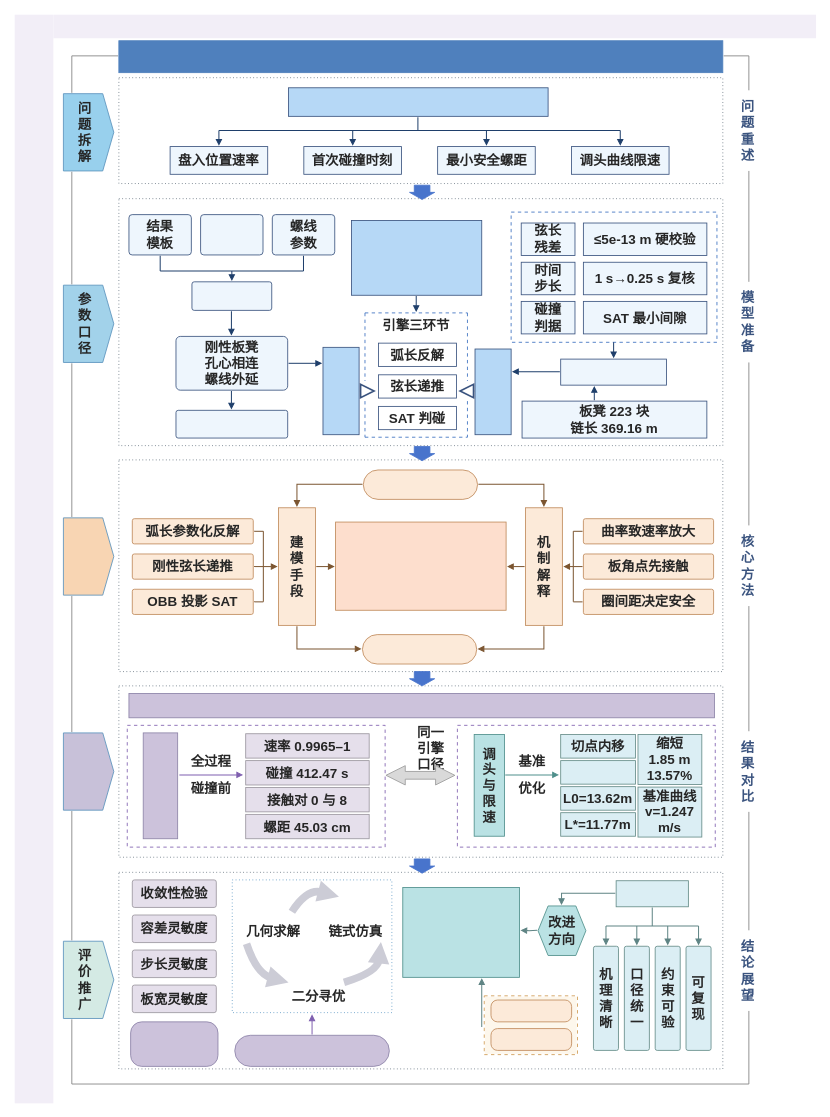
Some shapes in this 830 by 1117 pixel diagram are drawn without their labels. The centre of each missing label's shape, as x and y in pixels:
"R2=1.43m" goes at pixel 597 772.
"五 问 结 果" goes at pixel 88 771.
"内容一：共用 弧长参数化 链式求解引擎 （五问复用）" goes at pixel 416 257.
"内容三：五问结果——位置速率、首次碰撞、最小螺距、调头曲线与限速" goes at pixel 421 705.
"内容二：螺旋-链式 参数化建模+ SAT 碰撞判定+ 螺距/切点优化 二分求解" goes at pixel 420 565.
"内容四：误差与 灵敏度分析、 模型评价与改进、 应用推广" goes at pixel 461 932.
"几 何 准 备" goes at pixel 340 390.
"几何相切视角" goes at pixel 420 484.
"参数校核" goes at pixel 231 295.
"场景拓展" goes at pixel 531 1010.
"差分 交叉校验" goes at pixel 174 1043.
"弧长 s 与速率 v" goes at pixel 231 424.
"教学演示" goes at pixel 531 1039.
"板凳 尺寸" goes at pixel 231 234.
"板凳龙盘入调头全过程建模与安全边界求解" goes at pixel 420 56.
"模型评价" goes at pixel 651 893.
"沿链 224 节点" goes at pixel 613 371.
"盘 入 与 碰 撞" goes at pixel 160 785.
"盘入全程运动学、碰撞边界与调头限速" goes at pixel 418 101.
"约束逐项验证" goes at pixel 311 1050.
"评 价 指 标" goes at pixel 492 391.
"运动学限速视角" goes at pixel 419 649.
"链 式 求 解" goes at pixel 88 556.
